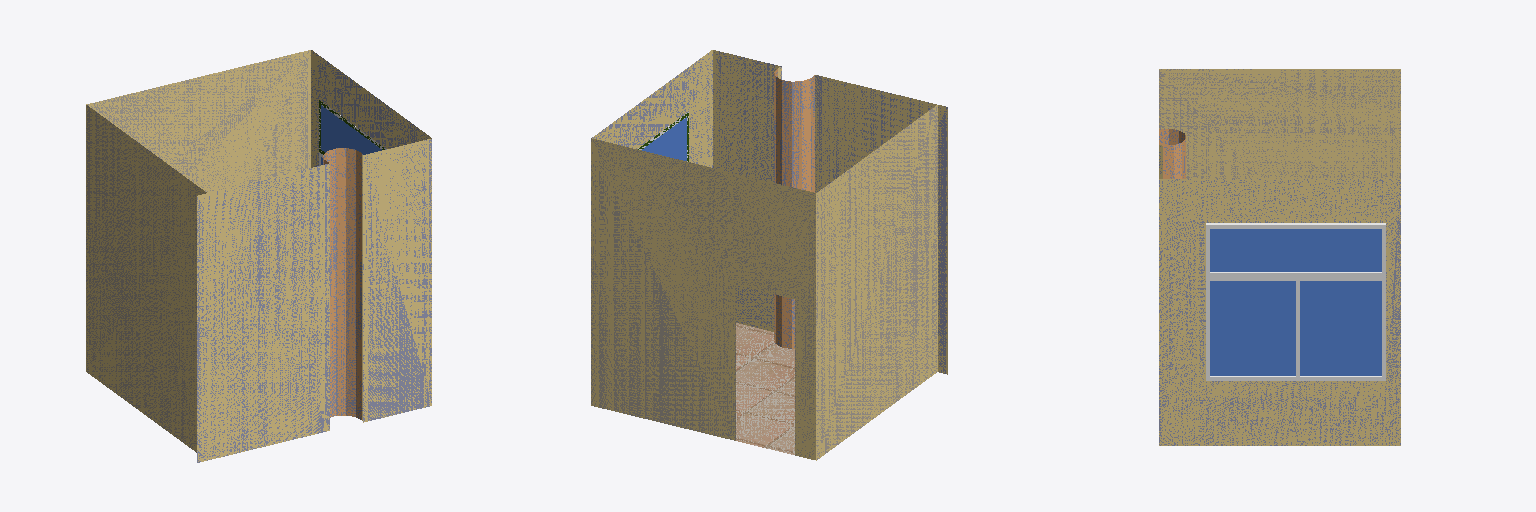
The picture shows the model from 3 angles: view 1: azimuth 30°, elevation 25°; view 2: azimuth 150°, elevation 25°; view 3: azimuth 270°, elevation 25°; orthographic projection.
Parts seen in each view (by area): view 1: Mesh7 DES016 Model, Mesh1 ventana1_1 DES016 Model; view 2: Mesh7 DES016 Model, Mesh1 ventana1_1 DES016 Model; view 3: Mesh7 DES016 Model, Mesh1 ventana1_1 DES016 Model.
Boxes of the visible parts, <box> form: Mesh7 DES016 Model: <box>86,50,431,462</box>; Mesh1 ventana1_1 DES016 Model: <box>319,100,385,165</box>; Mesh7 DES016 Model: <box>591,50,947,460</box>; Mesh1 ventana1_1 DES016 Model: <box>638,112,688,161</box>; Mesh7 DES016 Model: <box>1159,69,1400,445</box>; Mesh1 ventana1_1 DES016 Model: <box>1206,223,1385,380</box>.
Size of the model in its own units: 3.36 by 3.6 by 2.95.
8 materials, 1 textured.